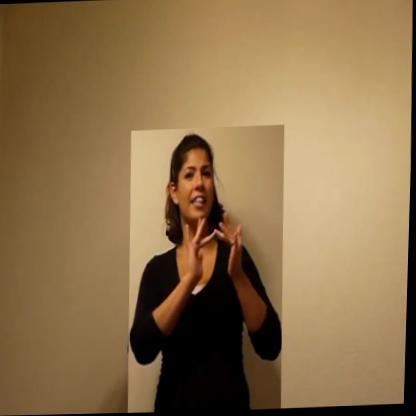Internet: (124, 125, 289, 414)
